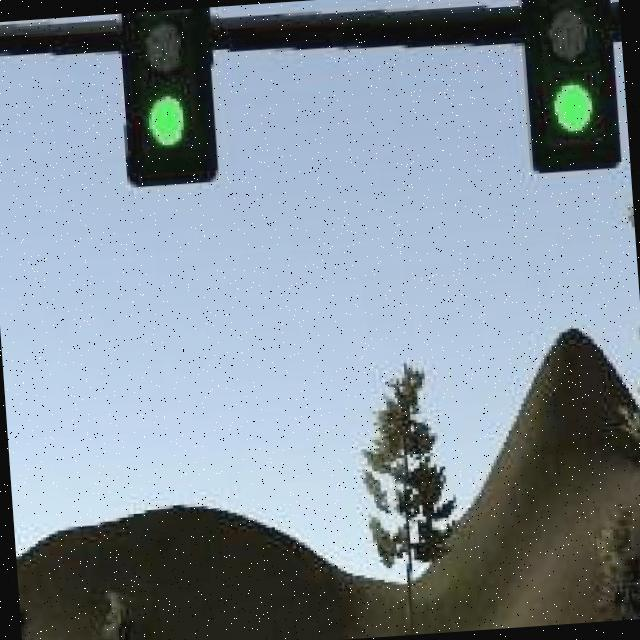Zielone swiatlo: (115, 10, 228, 194), (523, 0, 622, 171)
